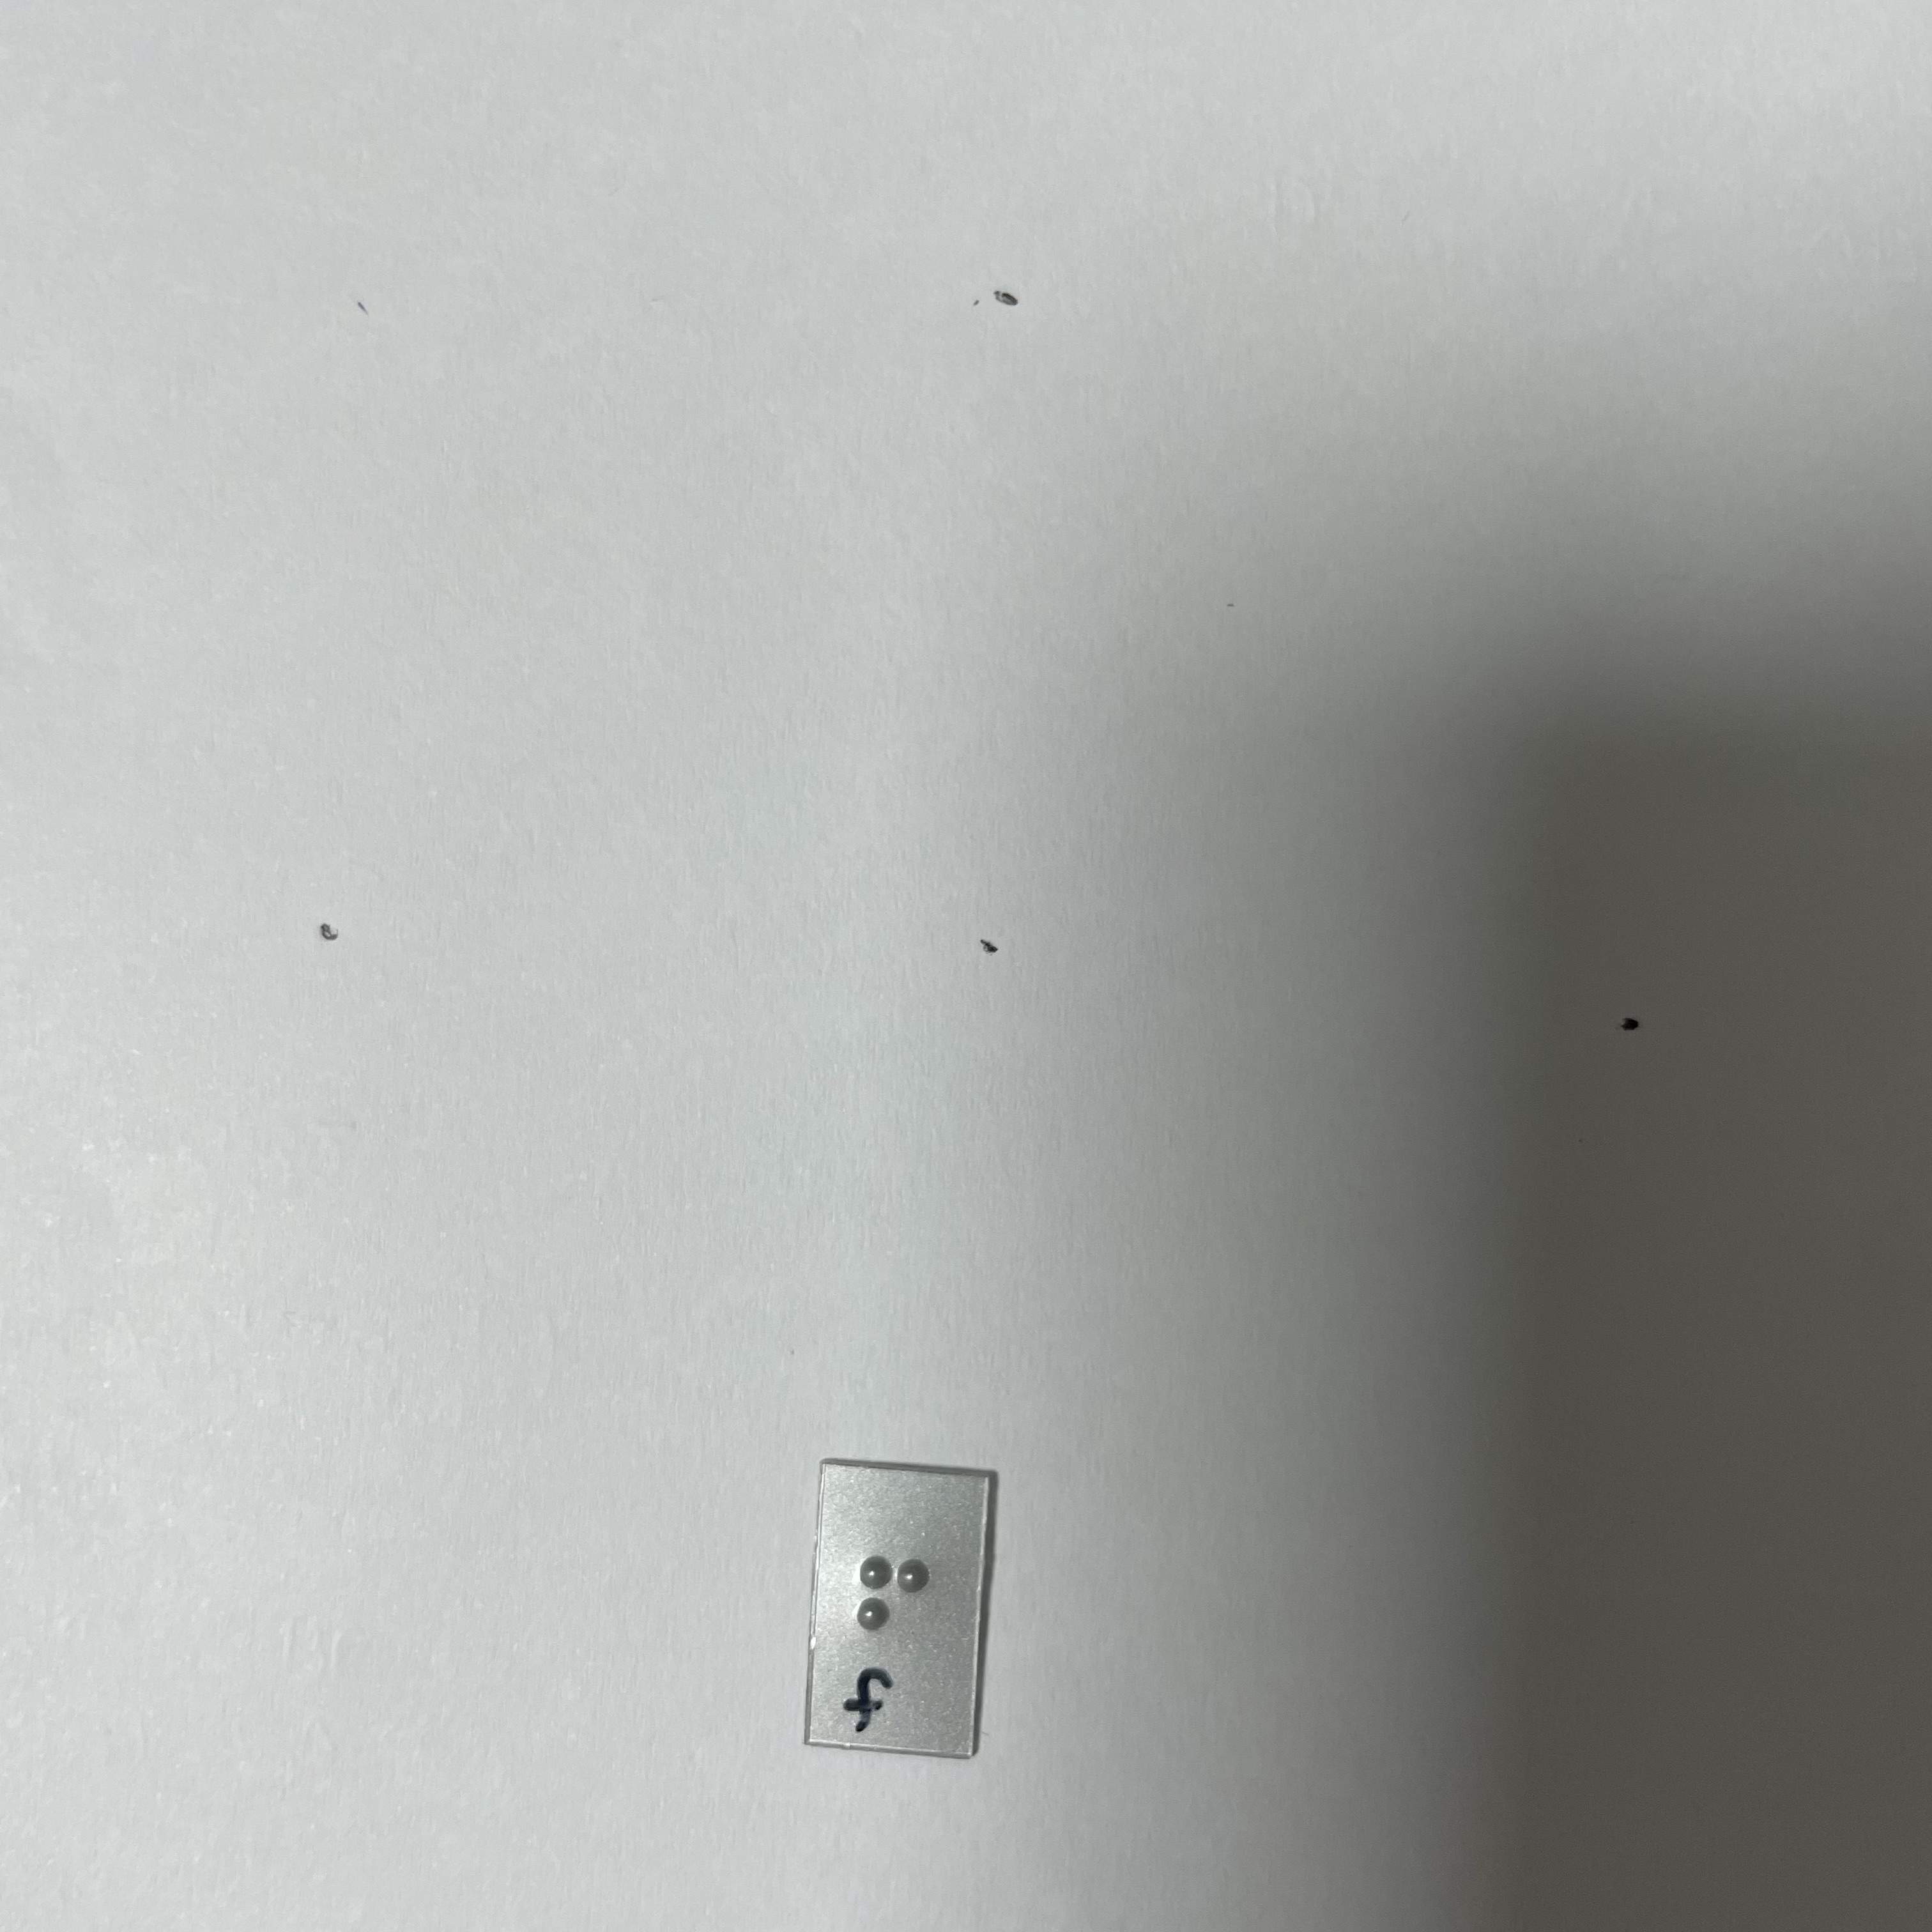f: (838, 1536, 947, 1680)
